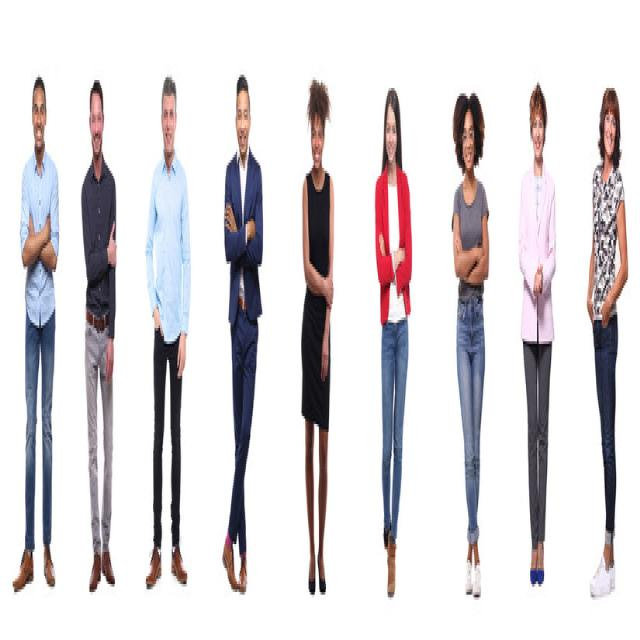person-without-mask: (218, 72, 276, 615), (366, 75, 424, 613), (12, 84, 66, 619), (449, 87, 501, 625), (80, 87, 132, 609), (150, 75, 200, 615), (293, 81, 342, 613), (584, 84, 632, 619), (517, 87, 563, 603)
